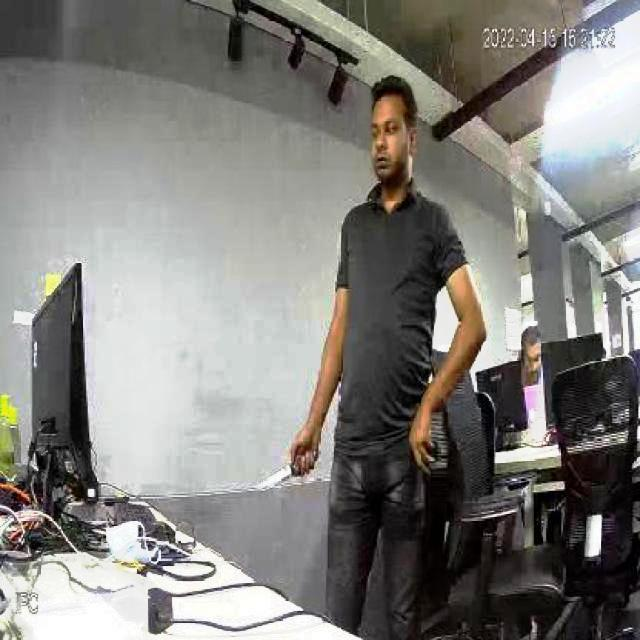Knife: (236, 455, 326, 501)
